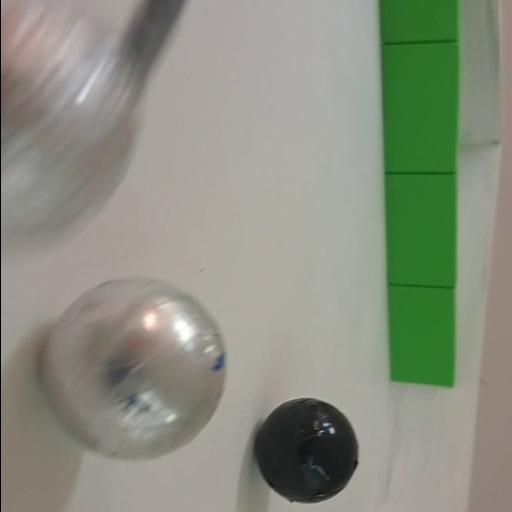alive: (0, 3, 151, 246), (36, 277, 228, 465)
dead: (252, 396, 358, 502)
